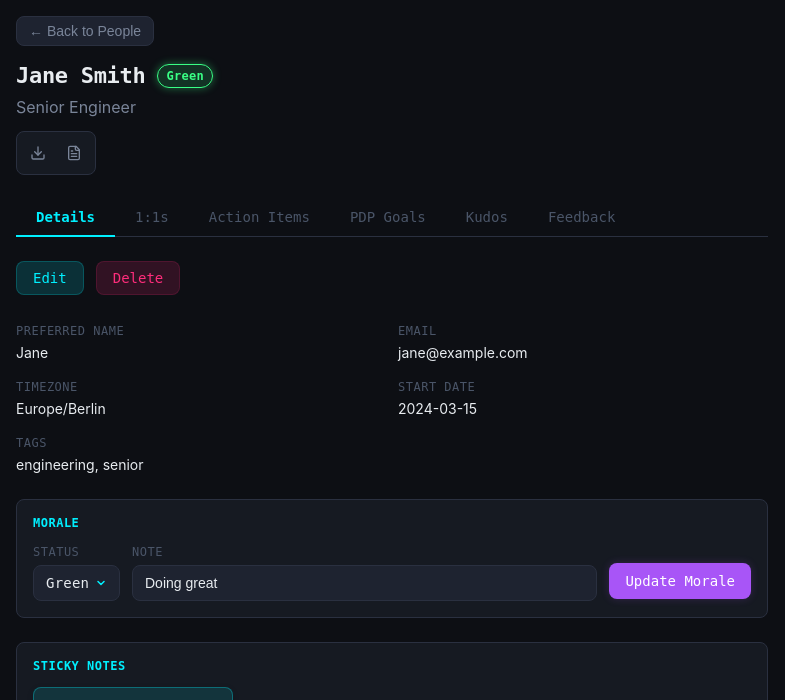
Test case: PersonDetailPage › should show edit form when Edit button is clicked
This screenshot has width=785, height=700.
Click the button with test id "edit-button".
click(50, 278)  # box [16,261,84,295]
(page scrolled)
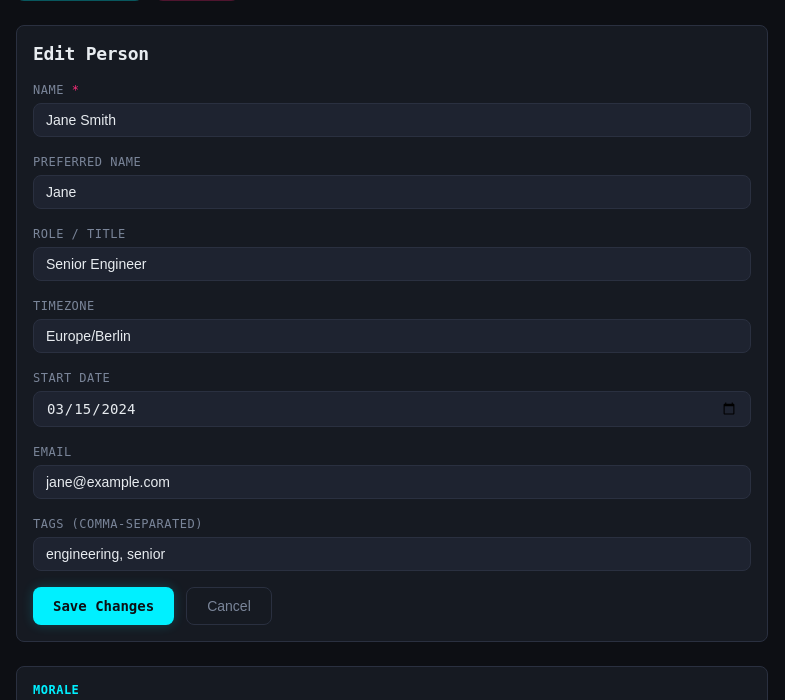
Expected: the form with test id "person-form" is shown
